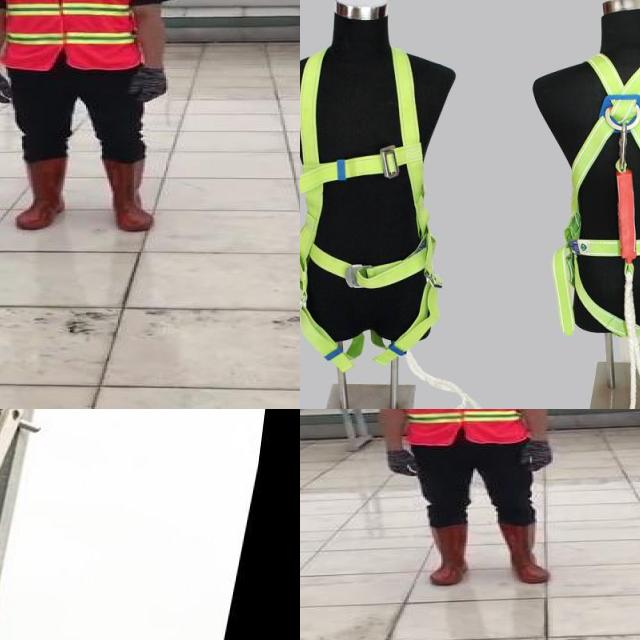Harness: (300, 48, 439, 361), (559, 47, 640, 351)
boots: (95, 157, 159, 230), (15, 159, 68, 229), (496, 522, 550, 585), (423, 525, 477, 585)
hand_glove: (128, 69, 168, 102), (521, 441, 557, 470), (382, 450, 420, 477), (0, 71, 20, 103)
person: (0, 0, 177, 241), (361, 409, 571, 590)
vest: (0, 0, 139, 69), (389, 409, 526, 444)
